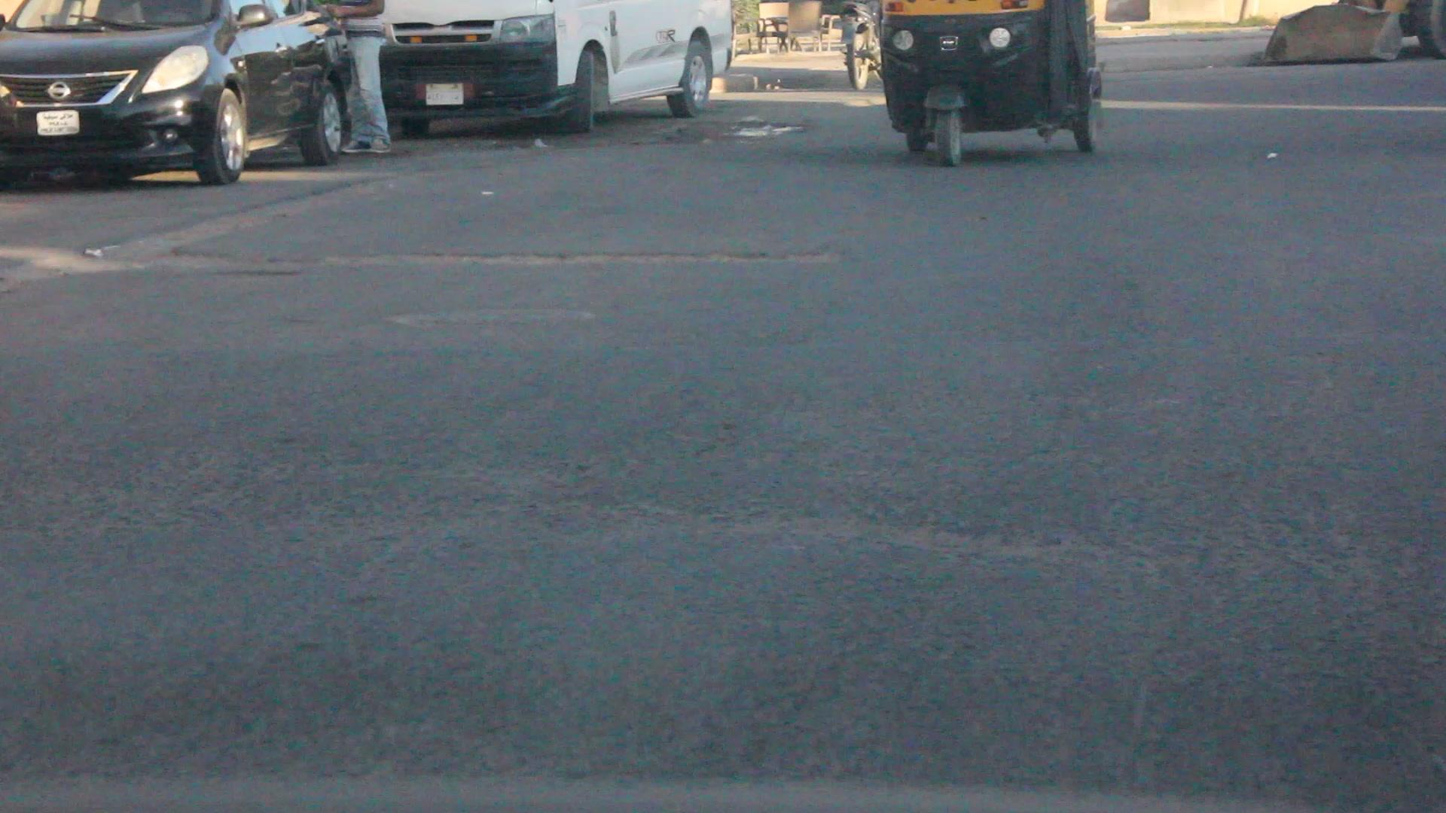Bump: (0, 526, 1445, 812)
Pothole: (0, 248, 844, 298), (640, 118, 809, 144)
